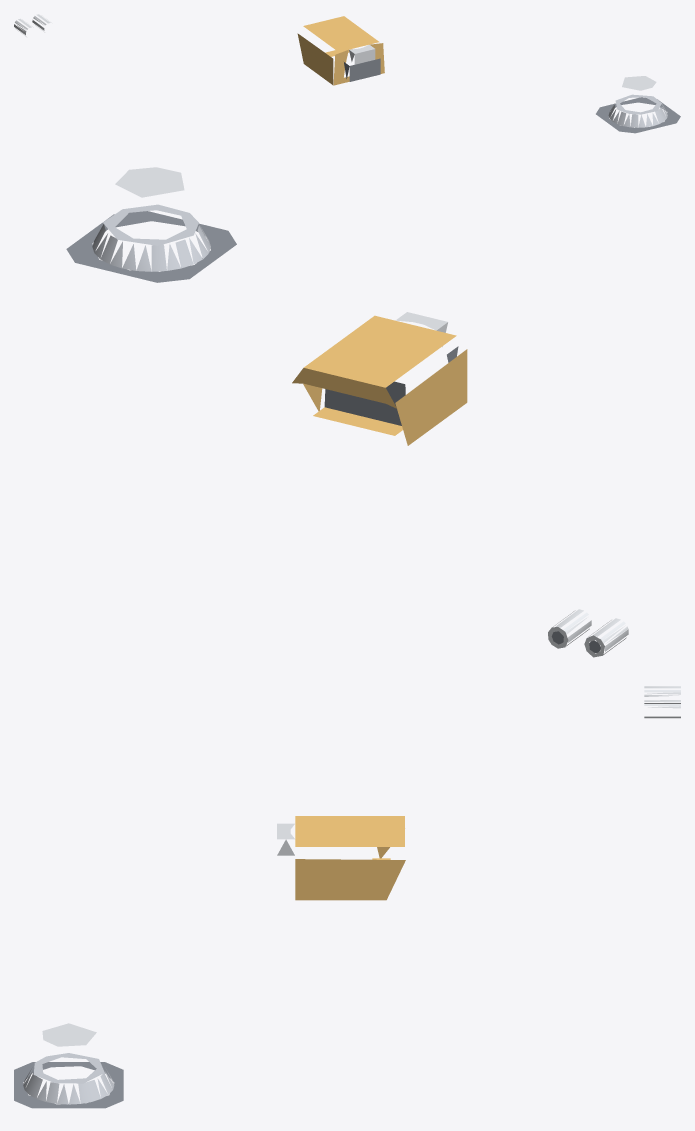
File: turret_single_lod1.glb
3 views of the same model, one above another, from view 1: azimuth 30°, elevation 25°; view 2: azimuth 150°, elevation 25°; view 3: azimuth 270°, elevation 25° (orthographic). The views are drawn at different scales.
Visible parts, largest first — view 1: turret.002, turret_single.001; view 2: turret.002, turret_single.001, Group.003, Group.002; view 3: turret.002, turret_single.001.
Part boxes in pixels (bbox=[...]): turret.002: bbox=[297, 16, 384, 85]; turret_single.001: bbox=[596, 76, 680, 133]; turret.002: bbox=[292, 312, 467, 445]; turret_single.001: bbox=[66, 167, 236, 282]; Group.003: bbox=[584, 618, 628, 657]; Group.002: bbox=[548, 609, 591, 648]; turret.002: bbox=[277, 816, 405, 900]; turret_single.001: bbox=[14, 1023, 123, 1108].
Bounding box in the file's own units: 4.44 × 0.65 × 3.65.
